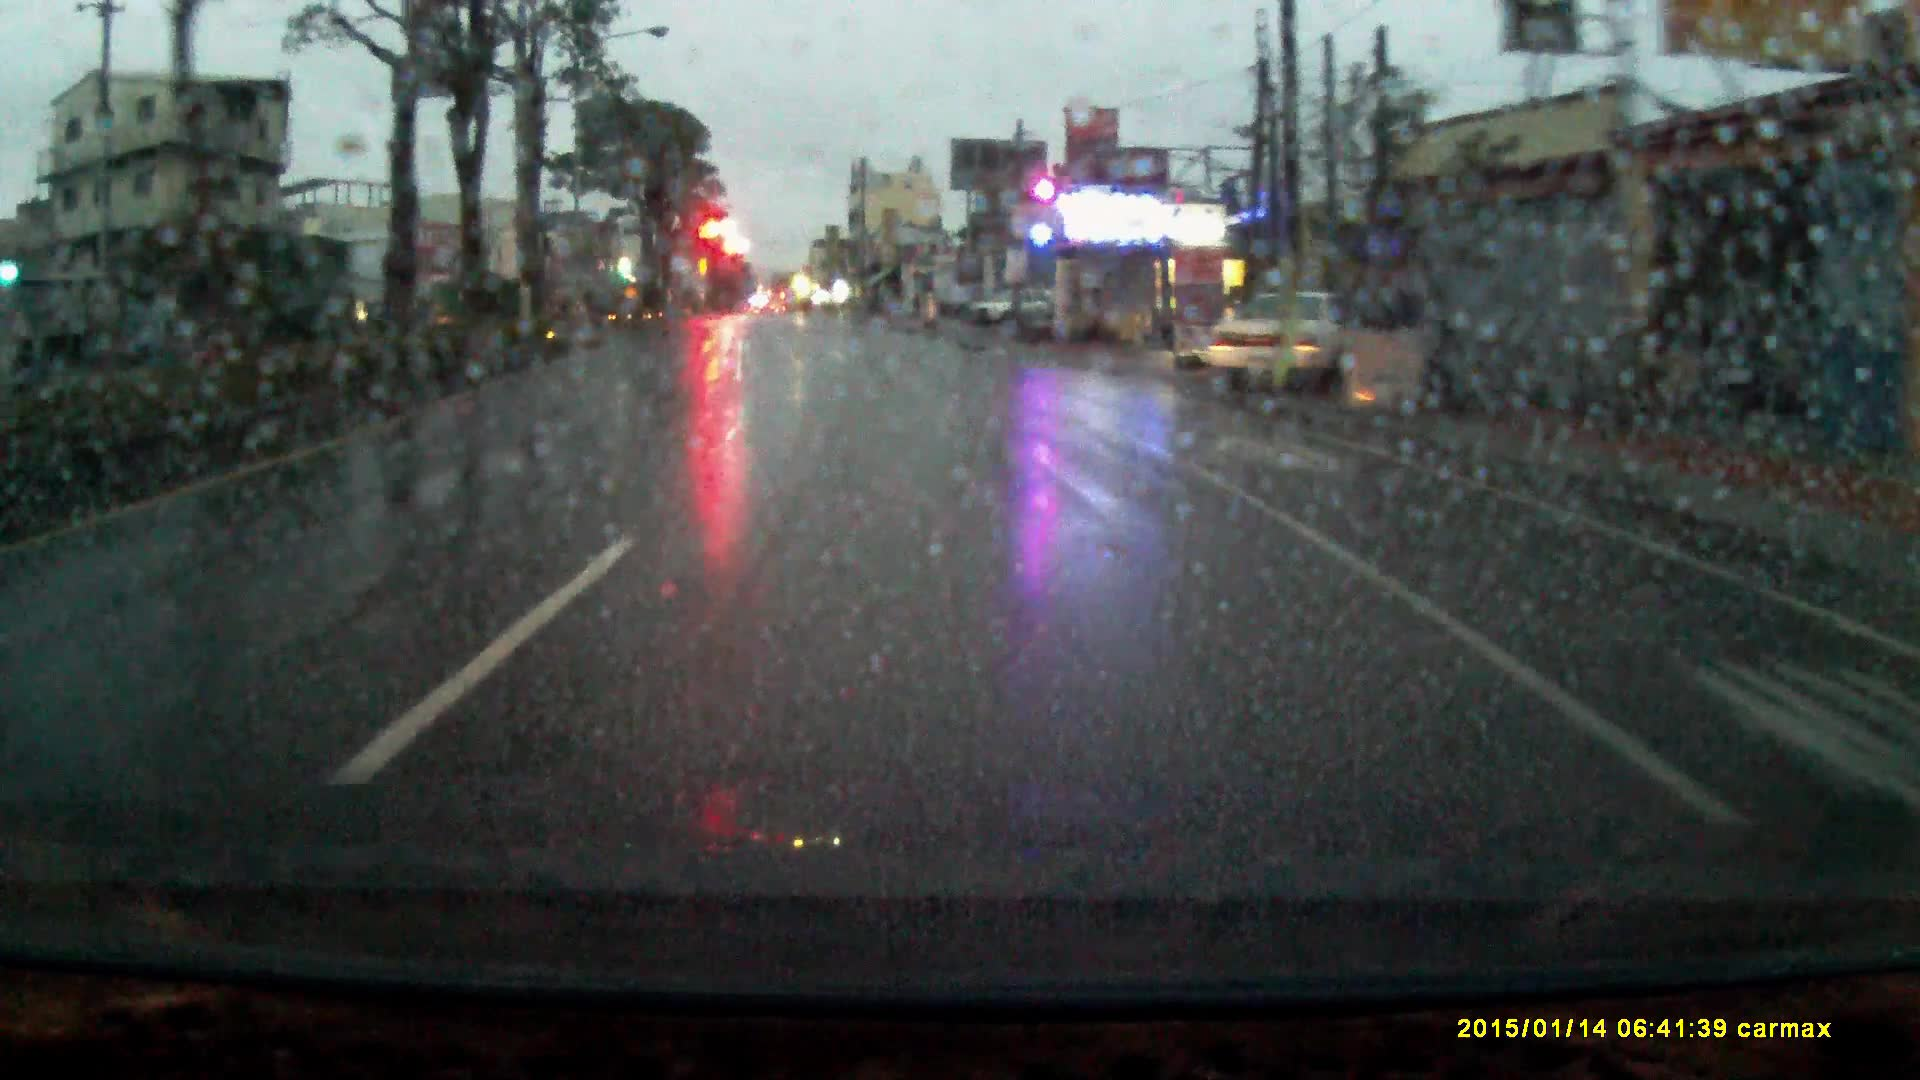vehicle: (1217, 287, 1389, 396), (975, 287, 1058, 326), (550, 291, 593, 324)
